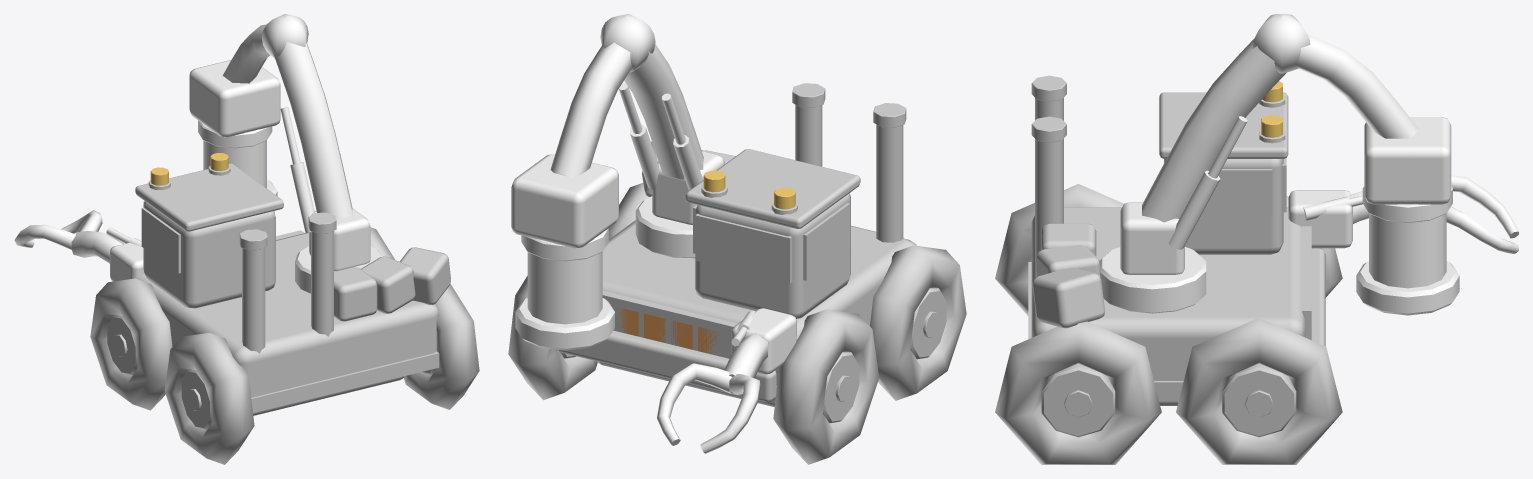
Rendered from DowntownCrusher.glb.
3 views of the same model, side by side, from view 1: azimuth 30°, elevation 25°; view 2: azimuth 150°, elevation 25°; view 3: azimuth 270°, elevation 25° (orthographic). The views are drawn at different scales.
Visible parts, largest first — view 1: Body, ArmR, ArmL, Eyes; view 2: Body, ArmR, ArmL, Core, Eyes; view 3: Body, ArmR, ArmL, Eyes.
Part boxes in pixels (<box>): Body: <box>90,163,479,464</box>; ArmR: <box>189,14,382,293</box>; ArmL: <box>14,210,144,281</box>; Eyes: <box>150,153,228,185</box>; Body: <box>508,83,966,464</box>; ArmR: <box>511,14,724,350</box>; ArmL: <box>657,308,796,453</box>; Core: <box>617,308,718,353</box>; Eyes: <box>703,170,795,209</box>; Body: <box>995,75,1342,464</box>; ArmR: <box>1099,14,1459,315</box>; ArmL: <box>1288,175,1518,254</box>; Eyes: <box>1261,81,1282,137</box>.
Size of the model in its own units: 31.3 by 37.9 by 43.8.
